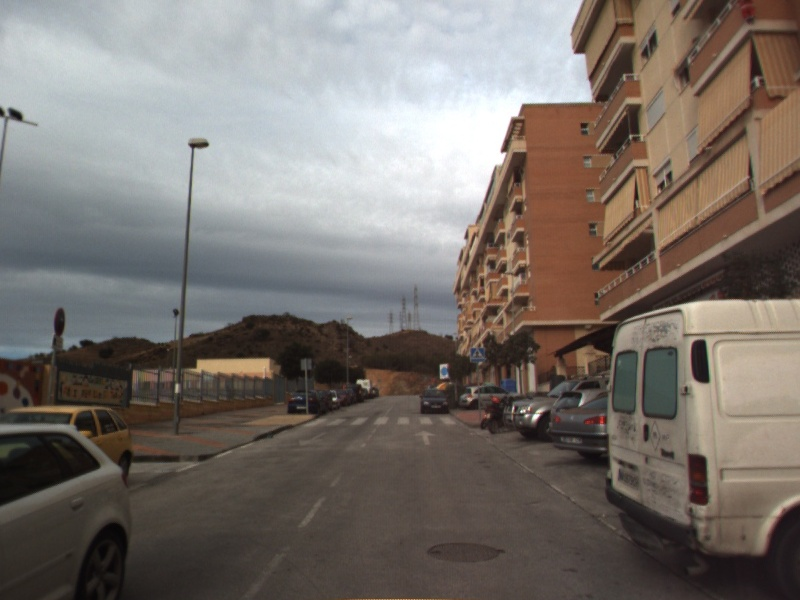STRAIGHT: (411, 428, 439, 447)
